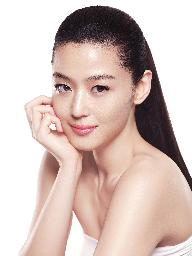face: (49, 42, 129, 154)
